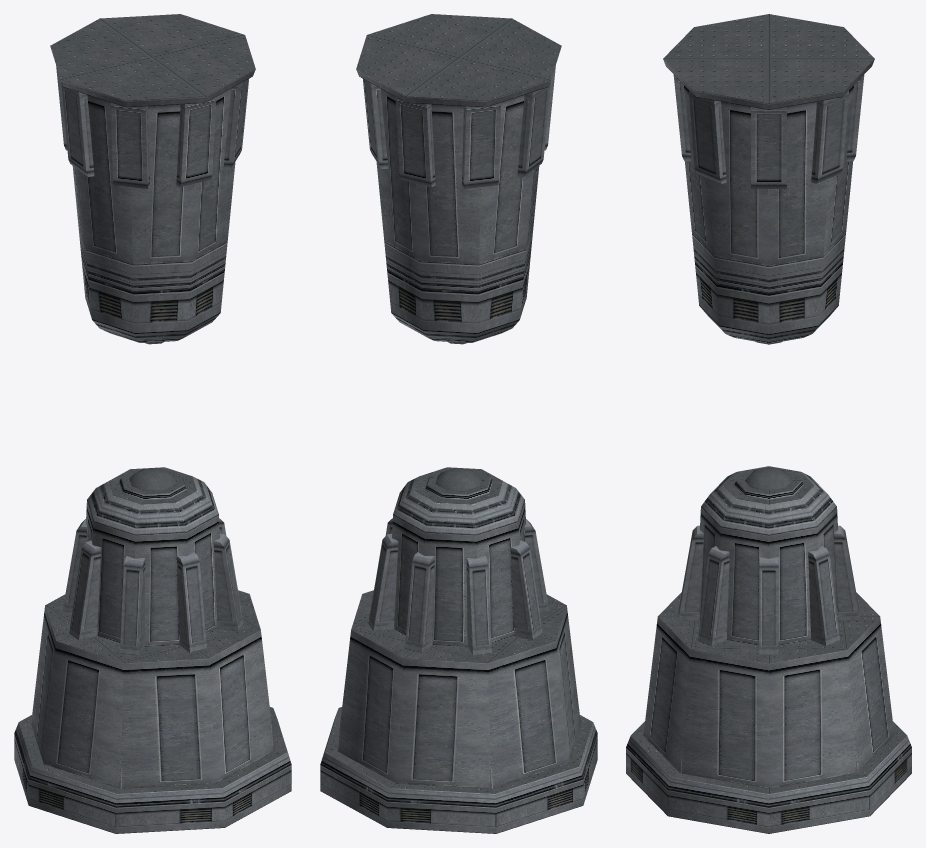
File: poi_all_impl_bunker_pillar_s02_l0.fbx
3 views of the same model, side by side, from view 1: azimuth 30°, elevation 25°; view 2: azimuth 150°, elevation 25°; view 3: azimuth 270°, elevation 25° (orthographic).
Visible parts, largest first — view 1: mesh_node; view 2: mesh_node; view 3: mesh_node.
Boxes of the visible parts, x1=… form: mesh_node: x1=14, y1=14, x2=291, y2=833; mesh_node: x1=320, y1=14, x2=597, y2=833; mesh_node: x1=626, y1=14, x2=911, y2=833.
Size of the model in its own units: 2 by 5.51 by 2.
Materials: 3 (3 with a texture image).
